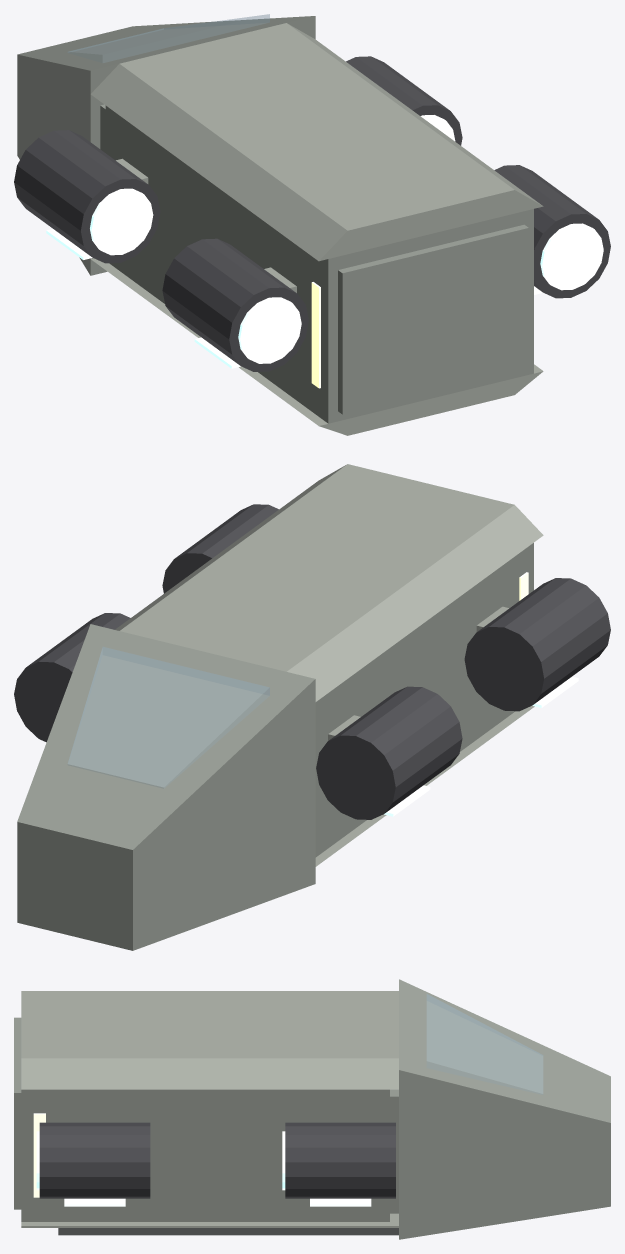
The model's file is ship_XS_DARTER.glb.
The picture shows the model from 3 angles, top to bottom: view 1: azimuth 30°, elevation 25°; view 2: azimuth 150°, elevation 25°; view 3: azimuth 270°, elevation 25°; orthographic projection. The views are drawn at different scales.
Parts seen in each view (by area): view 1: XS_DARTER_Armor, XS_DARTER_Hull-col, XS_DARTER_Ramp-col, XS_DARTER_Engines, XS_DARTER_EngineGlow, XS_DARTER_Glass-col, XS_DARTER_Lights; view 2: XS_DARTER_Hull-col, XS_DARTER_Armor, XS_DARTER_Engines, XS_DARTER_Glass-col, XS_DARTER_EngineGlow; view 3: XS_DARTER_Hull-col, XS_DARTER_Armor, XS_DARTER_Engines, XS_DARTER_Glass-col, XS_DARTER_Trim, XS_DARTER_EngineGlow, XS_DARTER_Ramp-col, XS_DARTER_Lights.
Part boxes in pixels (x1,y1,x2,y2): XS_DARTER_Armor: (90, 23, 543, 435); XS_DARTER_Hull-col: (17, 16, 533, 423); XS_DARTER_Ramp-col: (338, 224, 528, 414); XS_DARTER_Engines: (14, 56, 610, 371); XS_DARTER_EngineGlow: (46, 115, 603, 368); XS_DARTER_Glass-col: (68, 14, 269, 62); XS_DARTER_Lights: (311, 282, 320, 388); XS_DARTER_Hull-col: (17, 543, 533, 950); XS_DARTER_Armor: (115, 464, 543, 866); XS_DARTER_Engines: (14, 504, 610, 819); XS_DARTER_Glass-col: (68, 647, 269, 788); XS_DARTER_EngineGlow: (384, 676, 578, 816); XS_DARTER_Hull-col: (21, 979, 610, 1239); XS_DARTER_Armor: (21, 991, 398, 1227); XS_DARTER_Engines: (39, 1122, 395, 1198); XS_DARTER_Glass-col: (427, 994, 542, 1094); XS_DARTER_Trim: (58, 1228, 398, 1235); XS_DARTER_EngineGlow: (36, 1131, 371, 1206); XS_DARTER_Ramp-col: (14, 1017, 21, 1209); XS_DARTER_Lights: (33, 1113, 45, 1197).
Size of the model in its own units: 5.94 by 3.2 by 9.72.
